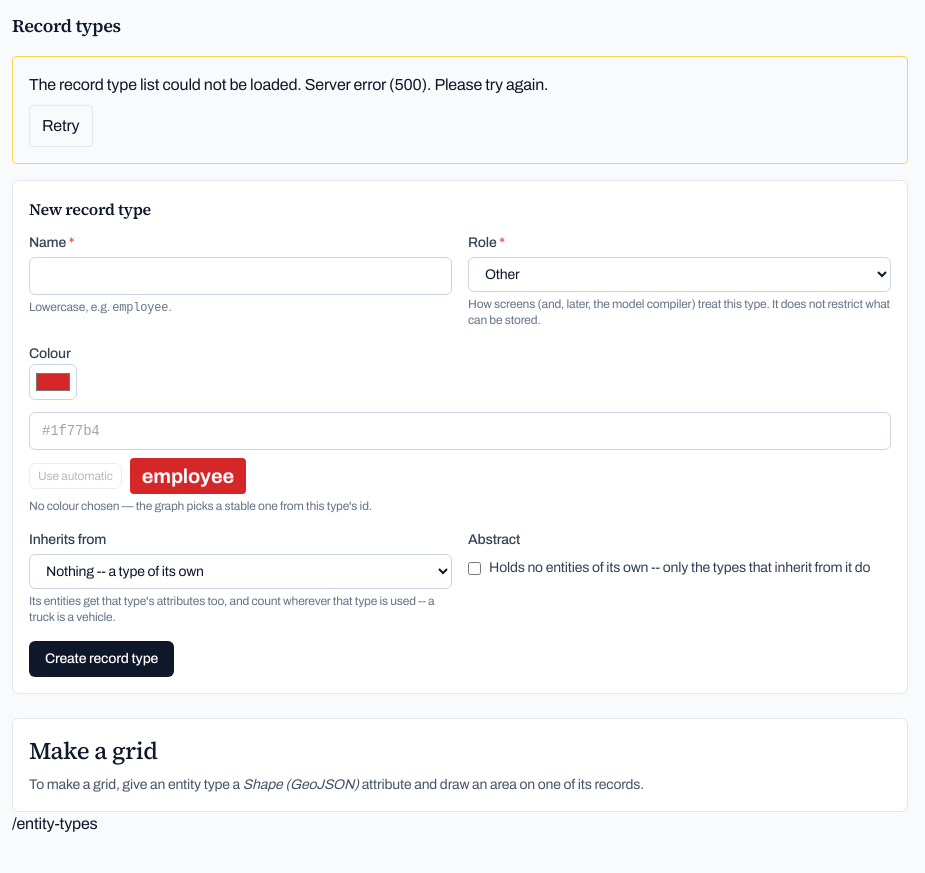
it: EntityTypes list page › shows a load failure with a retry
The image size is (925, 873).
Expected: the text "Server error (500)" is shown, [29,76,548,93]
Click the button "Retry": {"x": 61, "y": 126} [29,105,92,147]
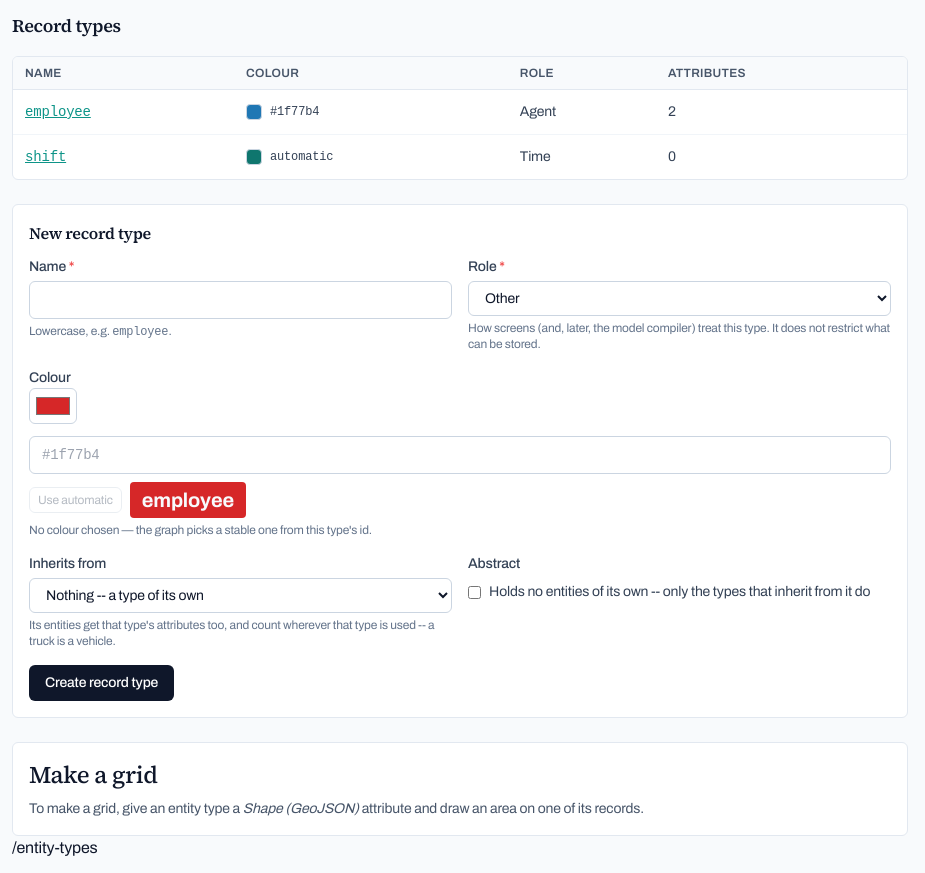
Now the link "employee" is shown, box [25,104,91,120]
